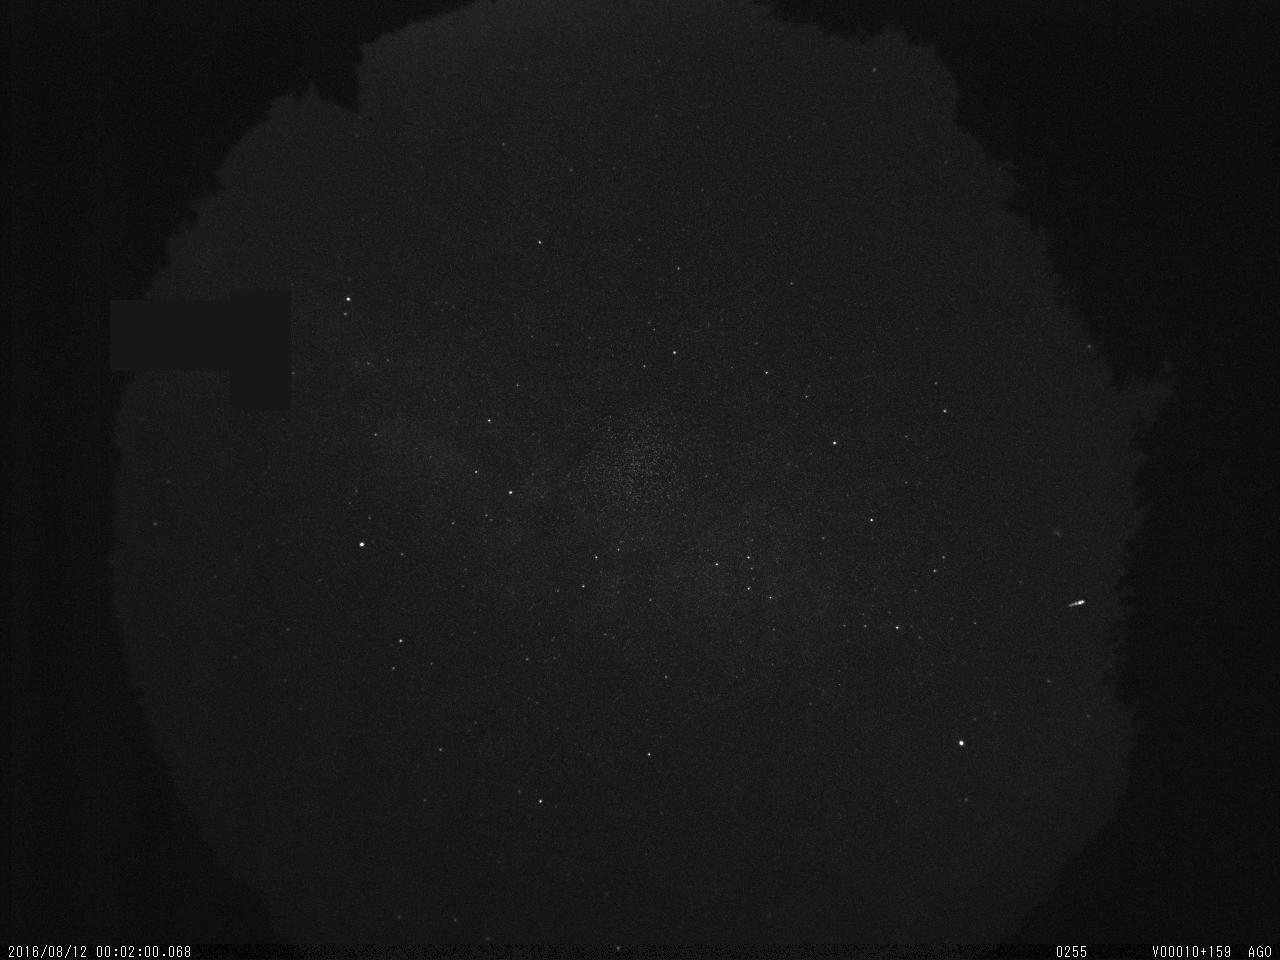Meteor: (1066, 595, 1088, 608)
